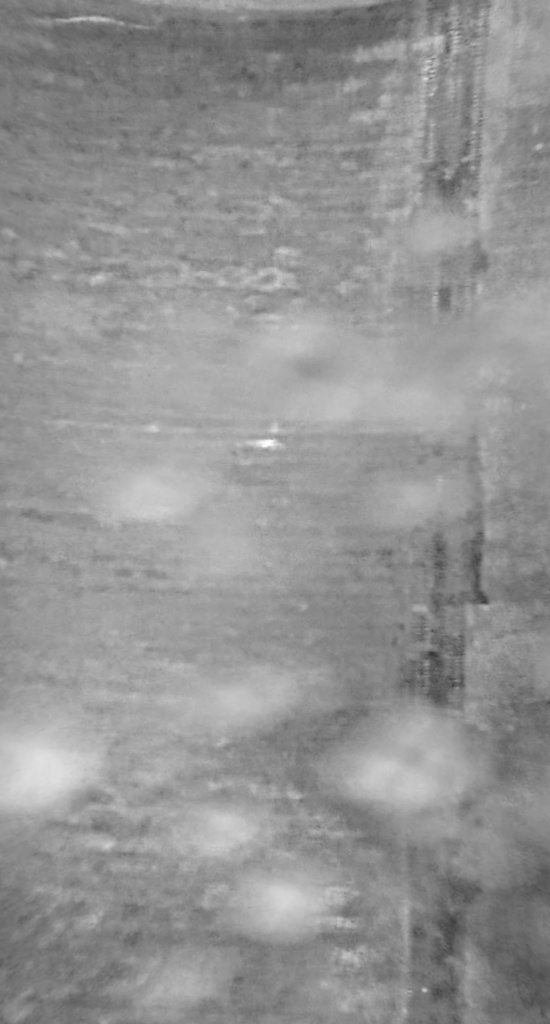splice: (402, 1, 505, 1023)
